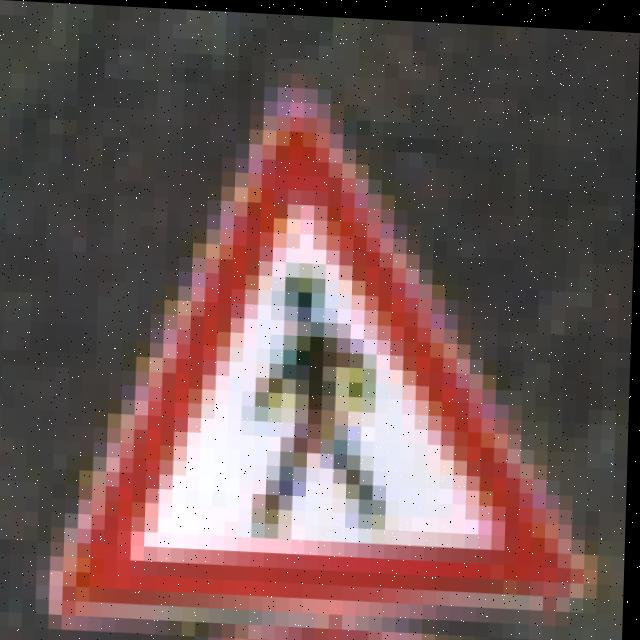crosswalk: (37, 119, 570, 590)
